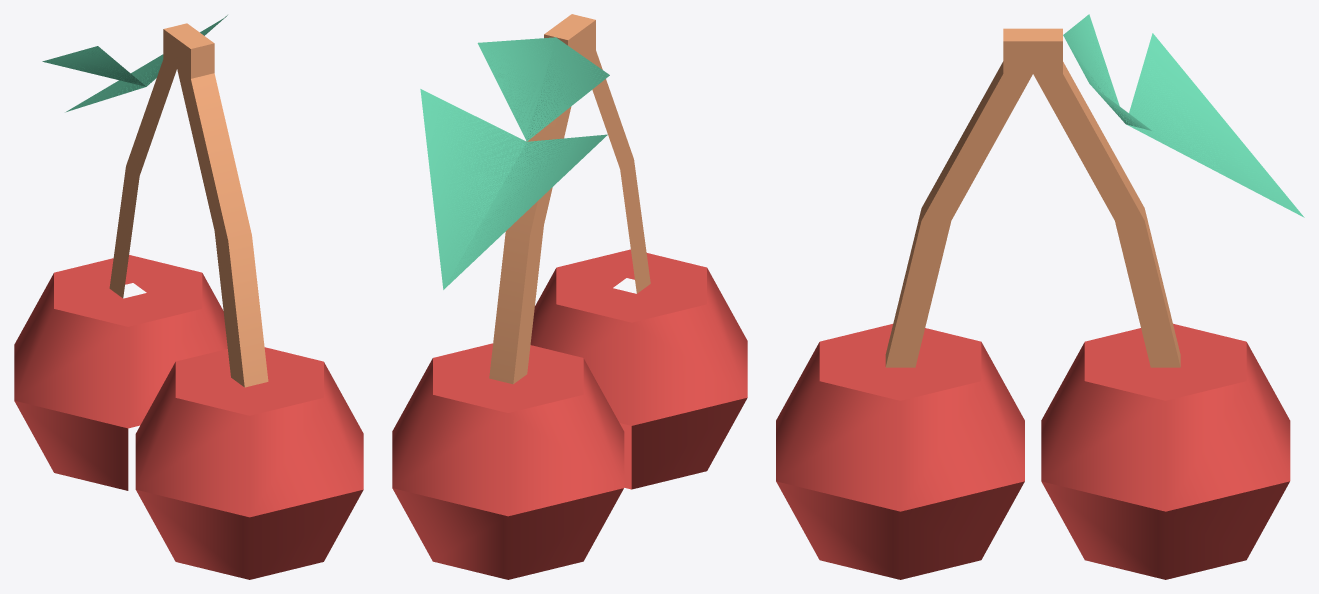
Rendered from polypizza-cherries.glb.
3 renders of one model, left to right at view 1: azimuth 30°, elevation 25°; view 2: azimuth 150°, elevation 25°; view 3: azimuth 270°, elevation 25°, orthographic. The views are drawn at different scales.
Parts seen in each view (by area): view 1: cherries; view 2: cherries; view 3: cherries.
Part boxes in pixels (x1,y1,x2,y2): cherries: [14, 15, 363, 579]; cherries: [392, 14, 747, 579]; cherries: [776, 14, 1304, 579].
Bounding box in the file's own units: 0.5155 × 1 × 0.9484.
